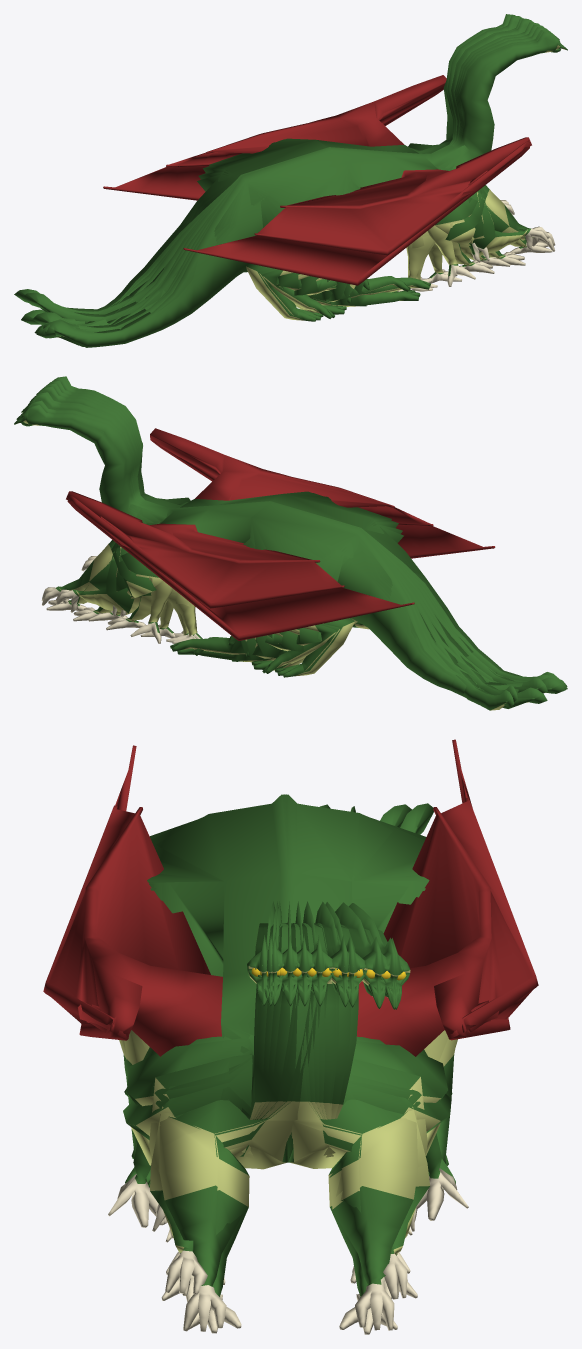
The model's file is drak_kraci.glb.
3 renders of one model, top to bottom at view 1: azimuth 30°, elevation 25°; view 2: azimuth 150°, elevation 25°; view 3: azimuth 270°, elevation 25°, orthographic. The views are drawn at different scales.
Parts seen in each view (by area): view 1: chuze_00, chuze_10, chuze_11, chuze_06, chuze_09, chuze_07, chuze_05, chuze_03, chuze_02, chuze_01, chuze_08, chuze_04; view 2: chuze_00, chuze_07, chuze_06, chuze_04, chuze_03, chuze_11, chuze_09, chuze_10, chuze_08, chuze_02, chuze_01, chuze_05; view 3: chuze_00, chuze_06, chuze_07, chuze_09, chuze_03, chuze_04, chuze_05, chuze_10, chuze_11, chuze_02, chuze_01, chuze_08.
Part boxes in pixels (box(x1,y1,x2,y2)): chuze_00: box(43, 32, 567, 347); chuze_10: box(21, 24, 544, 323); chuze_11: box(32, 30, 550, 331); chuze_06: box(46, 14, 555, 336); chuze_09: box(14, 19, 534, 314); chuze_07: box(45, 14, 552, 333); chuze_05: box(40, 15, 549, 338); chuze_03: box(34, 22, 540, 345); chuze_02: box(37, 27, 549, 346); chuze_01: box(44, 30, 552, 347); chuze_08: box(21, 16, 525, 324); chuze_04: box(36, 18, 528, 341); chuze_00: box(41, 376, 558, 680); chuze_07: box(14, 405, 551, 692); chuze_06: box(15, 405, 553, 685); chuze_04: box(21, 394, 567, 689); chuze_03: box(28, 386, 565, 693); chuze_11: box(52, 378, 547, 693); chuze_09: box(22, 392, 514, 710); chuze_10: box(40, 383, 517, 701); chuze_08: box(16, 401, 547, 708); chuze_02: box(48, 381, 560, 682); chuze_01: box(46, 377, 561, 683); chuze_05: box(17, 400, 567, 686); chuze_00: box(43, 739, 538, 1330); chuze_06: box(159, 794, 456, 1331); chuze_07: box(160, 794, 457, 1333); chuze_09: box(125, 794, 447, 1284); chuze_03: box(126, 794, 426, 1283); chuze_04: box(123, 794, 429, 1273); chuze_05: box(150, 794, 448, 1295); chuze_10: box(147, 794, 451, 1274); chuze_11: box(123, 794, 429, 1299); chuze_02: box(108, 795, 452, 1298); chuze_01: box(119, 901, 416, 1334); chuze_08: box(124, 794, 468, 1302).
Bounding box in the file's own units: 13.49 × 5.08 × 5.49.
